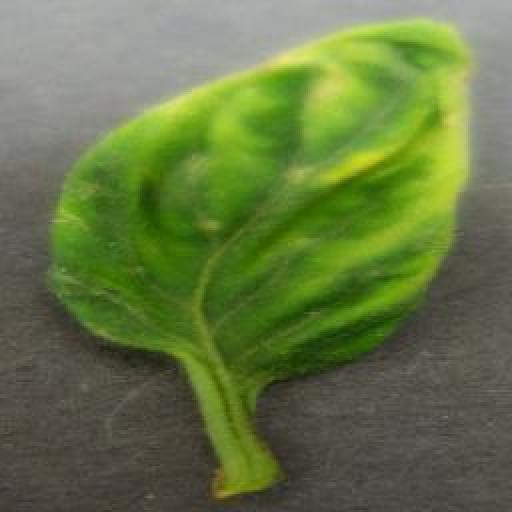disease_tomato: (55, 18, 471, 394)
